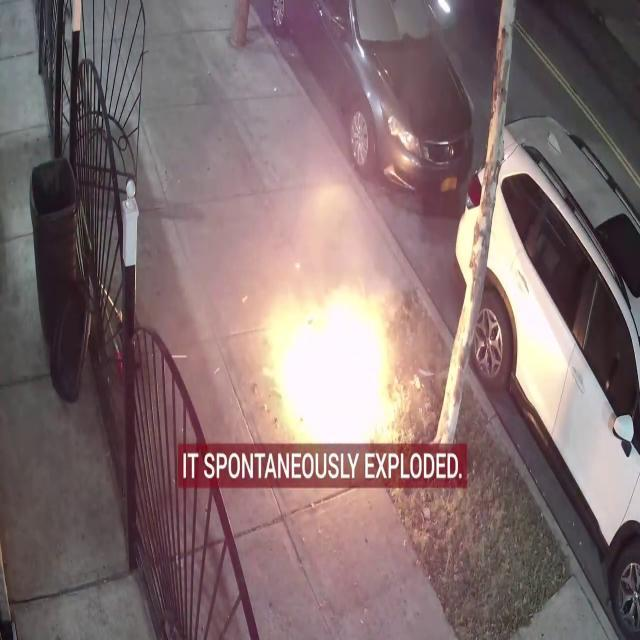Fire: (253, 268, 413, 463)
